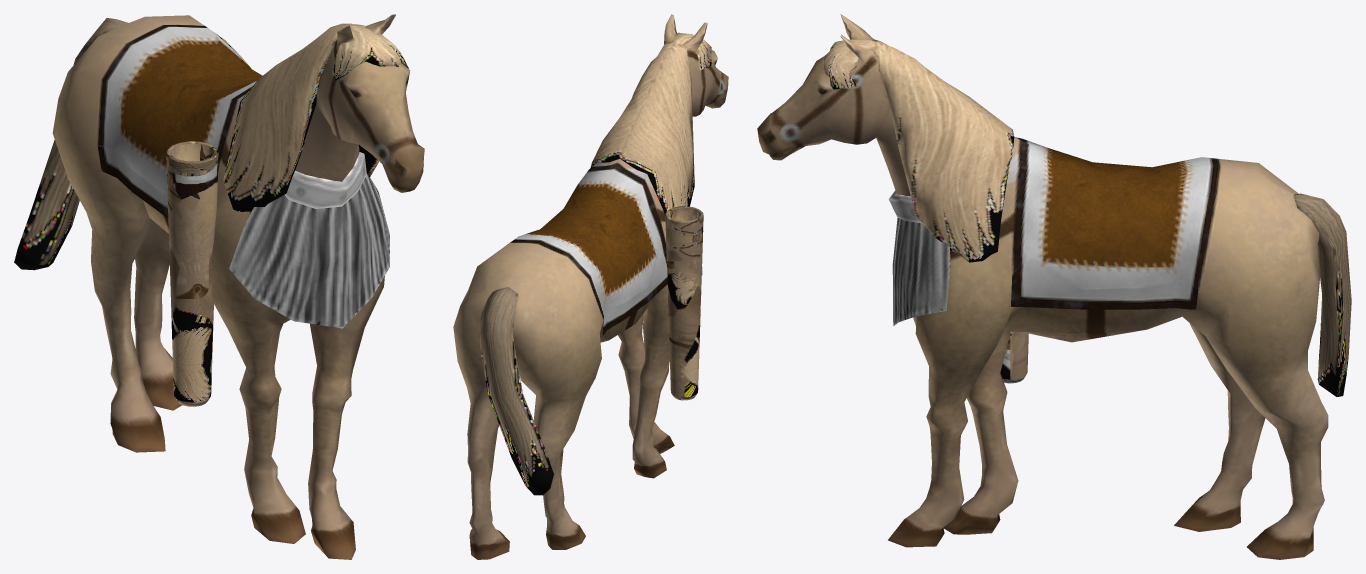
File: body-base.glb
3 views of the same model, side by side, from view 1: azimuth 30°, elevation 25°; view 2: azimuth 150°, elevation 25°; view 3: azimuth 270°, elevation 25° (orthographic). The views are drawn at different scales.
Size of the model in its own units: 0.9085 by 2.5 by 2.63.
Materials: 1 (1 with a texture image).
